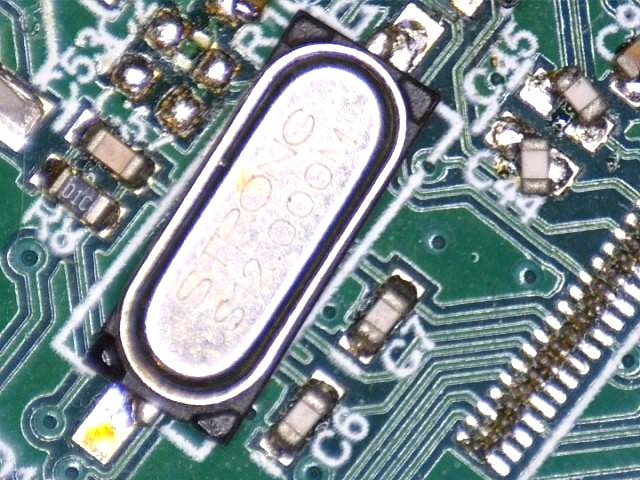pcb_defect: (72, 1, 445, 465), (518, 63, 615, 152), (484, 110, 580, 196), (608, 36, 640, 109)
